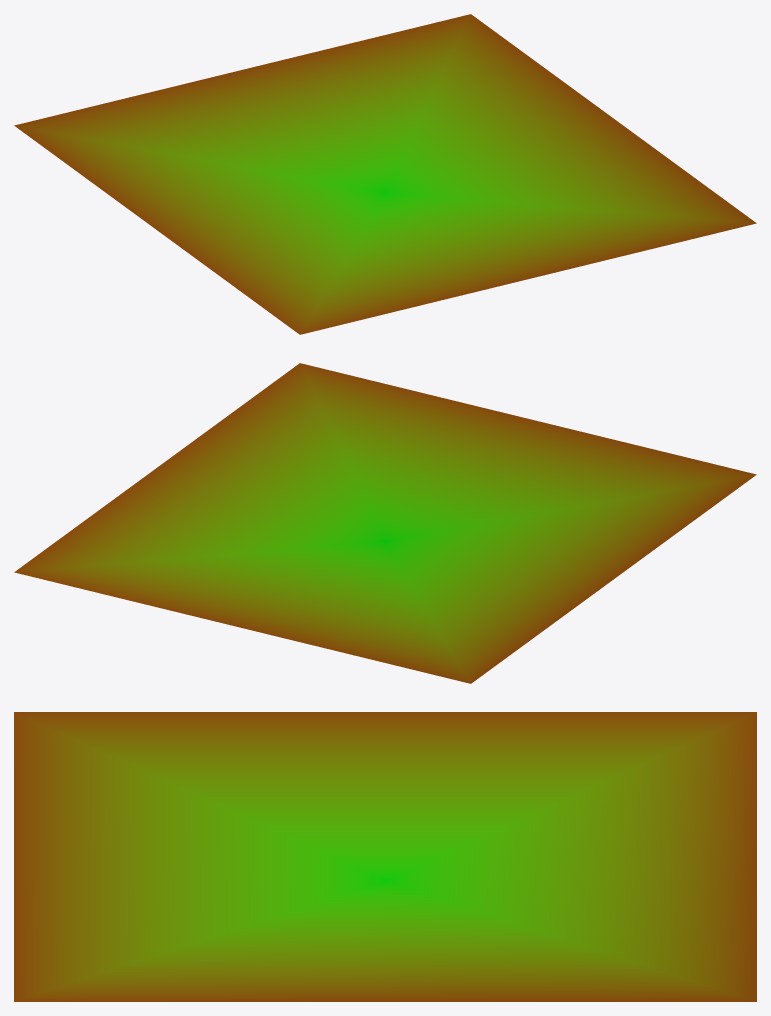
The model's file is Water Cabbage_LOD3_Var7_sjdlV.fbx.
The picture shows the model from 3 angles, top to bottom: view 1: azimuth 30°, elevation 25°; view 2: azimuth 150°, elevation 25°; view 3: azimuth 270°, elevation 25°; orthographic projection. The views are drawn at different scales.
Parts seen in each view (by area): view 1: _fc8e_Var7_LOD3; view 2: _fc8e_Var7_LOD3; view 3: _fc8e_Var7_LOD3.
Boxes of the visible parts, x1=… form: _fc8e_Var7_LOD3: x1=14, y1=14, x2=756, y2=334; _fc8e_Var7_LOD3: x1=14, y1=363, x2=756, y2=683; _fc8e_Var7_LOD3: x1=14, y1=712, x2=756, y2=1001.
Bounding box in the file's own units: 13.03 × 0.5 × 14.13.
